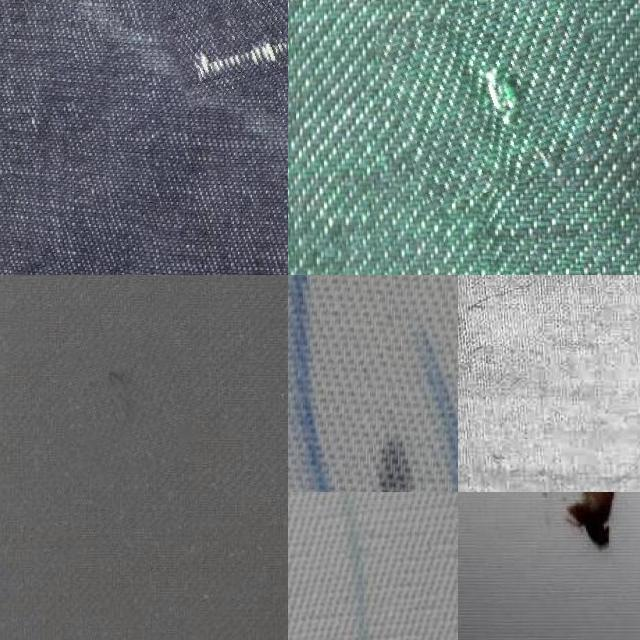Hole: (288, 275, 458, 492), (492, 492, 634, 599), (458, 275, 506, 411)
Thread_other: (384, 0, 620, 197), (64, 332, 198, 480), (160, 0, 288, 91)
